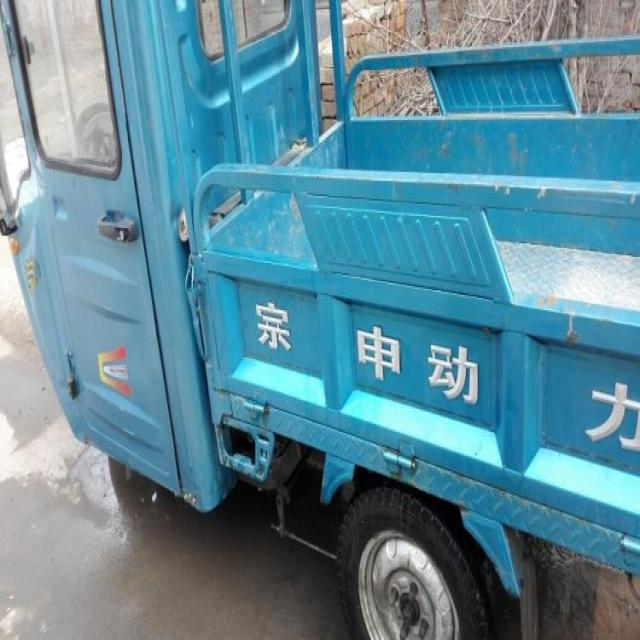tricycle: (0, 0, 636, 638)
